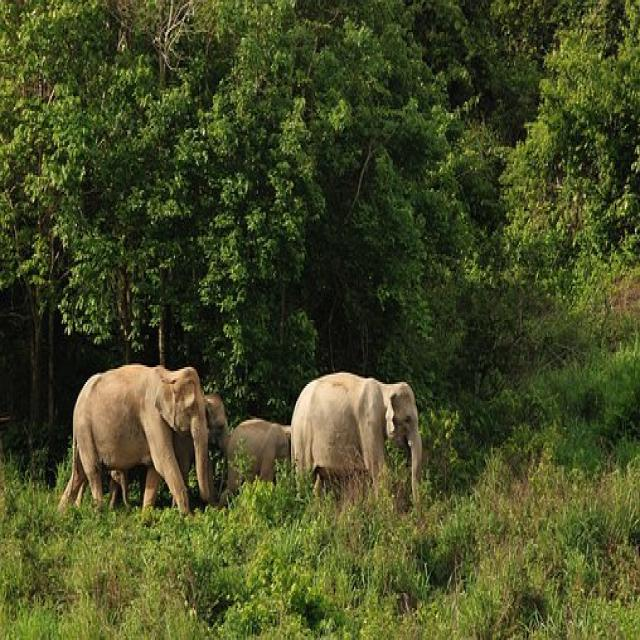Elephant: (292, 320, 442, 542), (63, 366, 221, 529), (233, 398, 296, 516)
